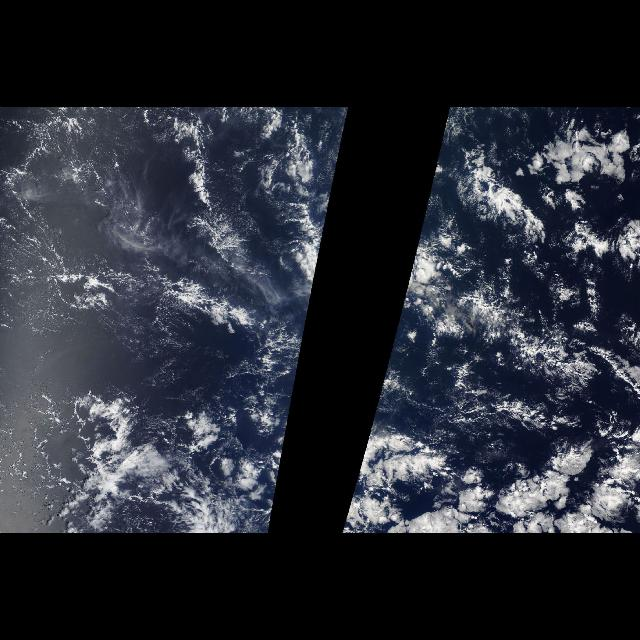Fish: (26, 114, 348, 390), (381, 114, 631, 414)
Flower: (366, 430, 628, 530), (524, 126, 638, 290)
Gravel: (30, 354, 286, 532)
Sugar: (12, 182, 252, 306)
